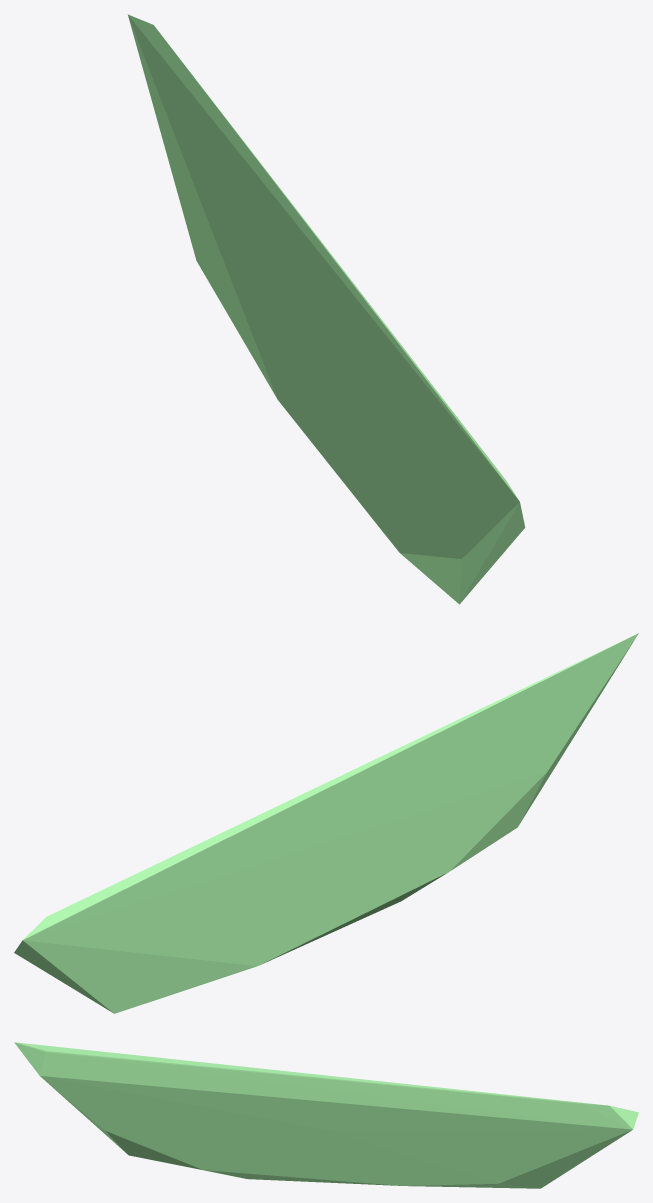
File: spatula_robot_base_coll_5.dae
3 renders of one model, top to bottom at view 1: azimuth 30°, elevation 25°; view 2: azimuth 150°, elevation 25°; view 3: azimuth 270°, elevation 25°, orthographic. The views are drawn at different scales.
Visible parts, largest first — view 1: Node_0x7fe6917b6bb0; view 2: Node_0x7fe6917b6bb0; view 3: Node_0x7fe6917b6bb0.
Part boxes in pixels (box(x1,y1,x2,y2)): Node_0x7fe6917b6bb0: box(127, 14, 525, 604); Node_0x7fe6917b6bb0: box(14, 633, 638, 1013); Node_0x7fe6917b6bb0: box(14, 1042, 638, 1188).
Bounding box in the file's own units: 0.0296 × 0.0255 × 0.1277.
